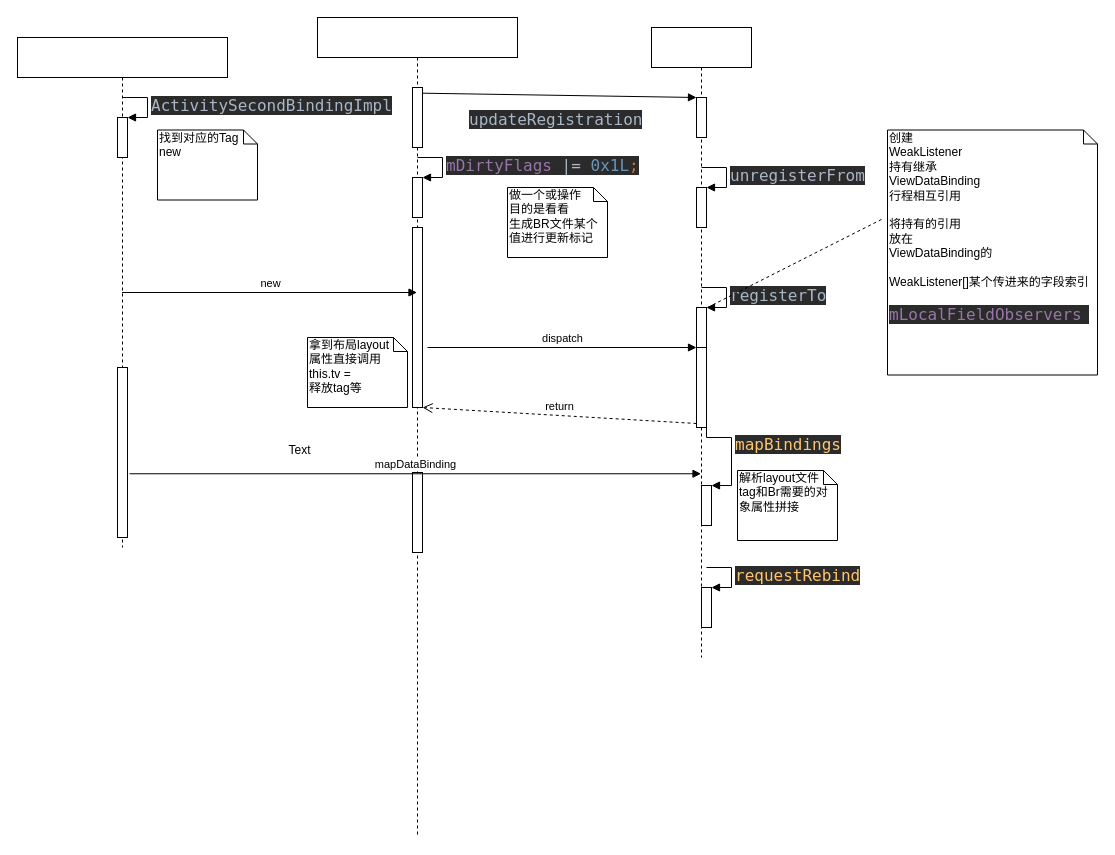
The diagram is 1115 pixels wide and 855 high, and some of its shapes have lost their labels. Here are the shapes that lost their labels. From the top down, the box of each, then its label:
(16, 36, 228, 548): DataBinderMapperImpl
(650, 26, 752, 658): ViewDataBinding
(316, 16, 518, 838): (User)ActivitySecondBindingImpl ViewModel（被观察者）
